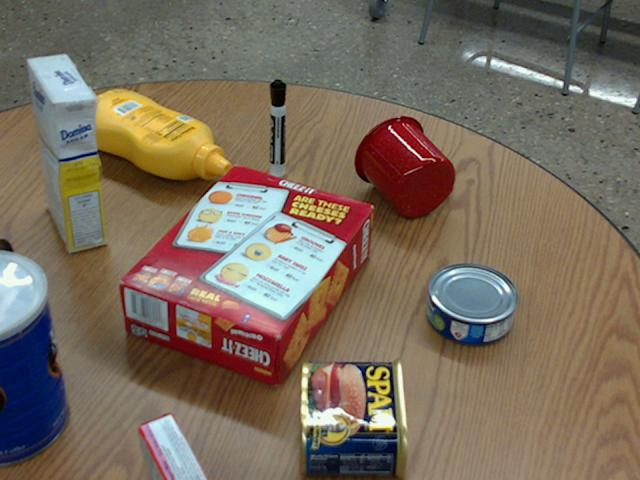cracker_box: (120, 166, 373, 384)
gelatin_box: (137, 411, 207, 479)
large_marker: (269, 79, 285, 176)
master_chef_can: (0, 249, 67, 464)
mug: (354, 116, 455, 217)
mustard_bottle: (76, 90, 230, 179)
potted_meat_can: (298, 358, 406, 479)
sugar_box: (29, 54, 104, 251)
tomato_soup_can: (0, 237, 14, 302)
tuna_fish_can: (426, 263, 517, 345)
